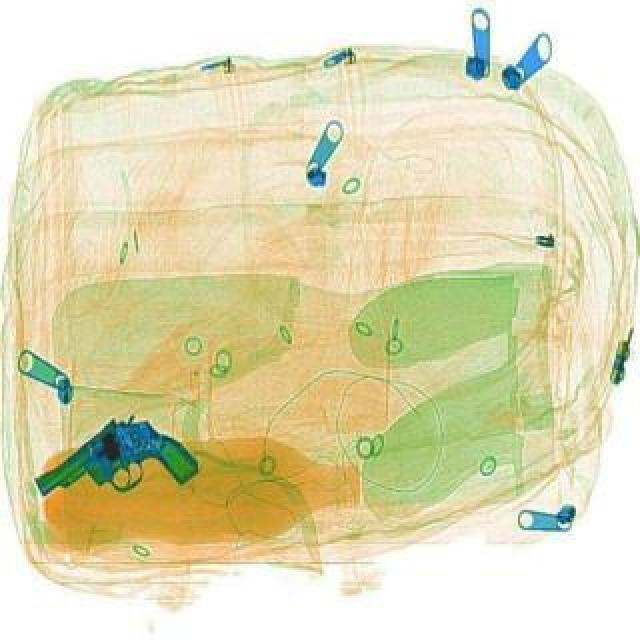gun: (28, 396, 202, 548)
